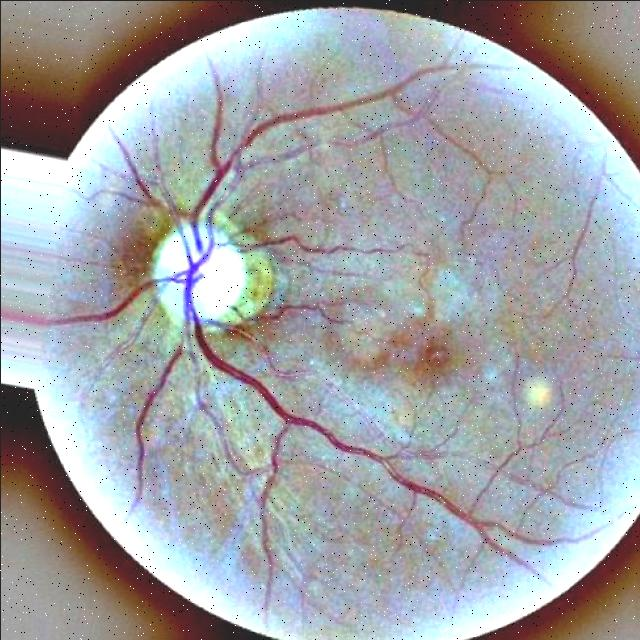Macula: (389, 316, 477, 394)
Nerves: (152, 83, 523, 545)
Optic Disk: (127, 205, 301, 360)
